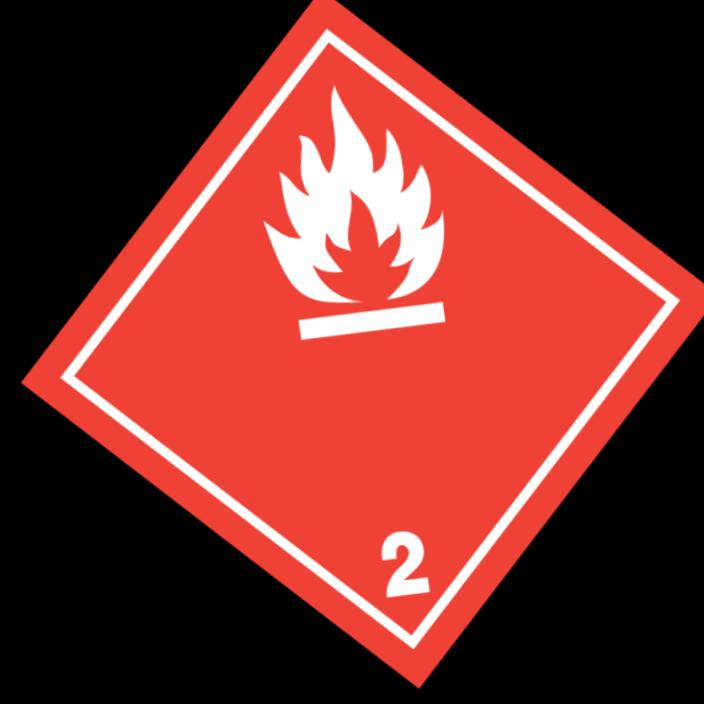bench: (21, 0, 704, 688)
